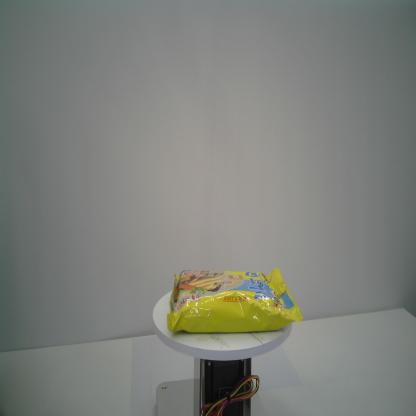Instant Noodles: (166, 267, 304, 335)
